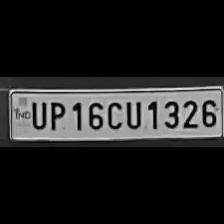1: (142, 98, 160, 130), (68, 99, 84, 131)
2: (180, 97, 198, 128)
3: (160, 97, 180, 128)
6: (84, 98, 104, 130), (198, 96, 218, 128)
C: (105, 98, 123, 130)
P: (46, 99, 66, 131)
U: (123, 97, 143, 129), (28, 98, 46, 130)
